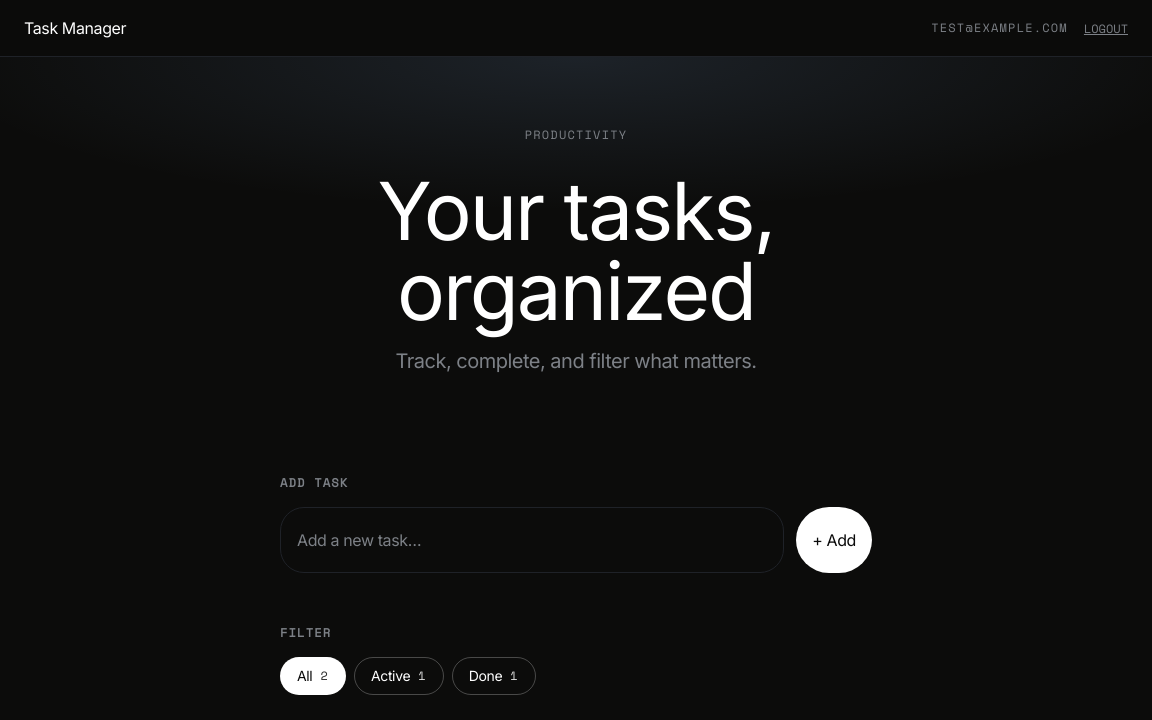
Test case: App Integration › filters tasks correctly
The width and height of the screenshot is (1152, 720).
# Filter to active only - click the button, not the text
What coordinates should you click on to do the following:
click the button "Active 1"
I would click on:
 (399, 676)
Its box is top-left (354, 657), bottom-right (444, 695).
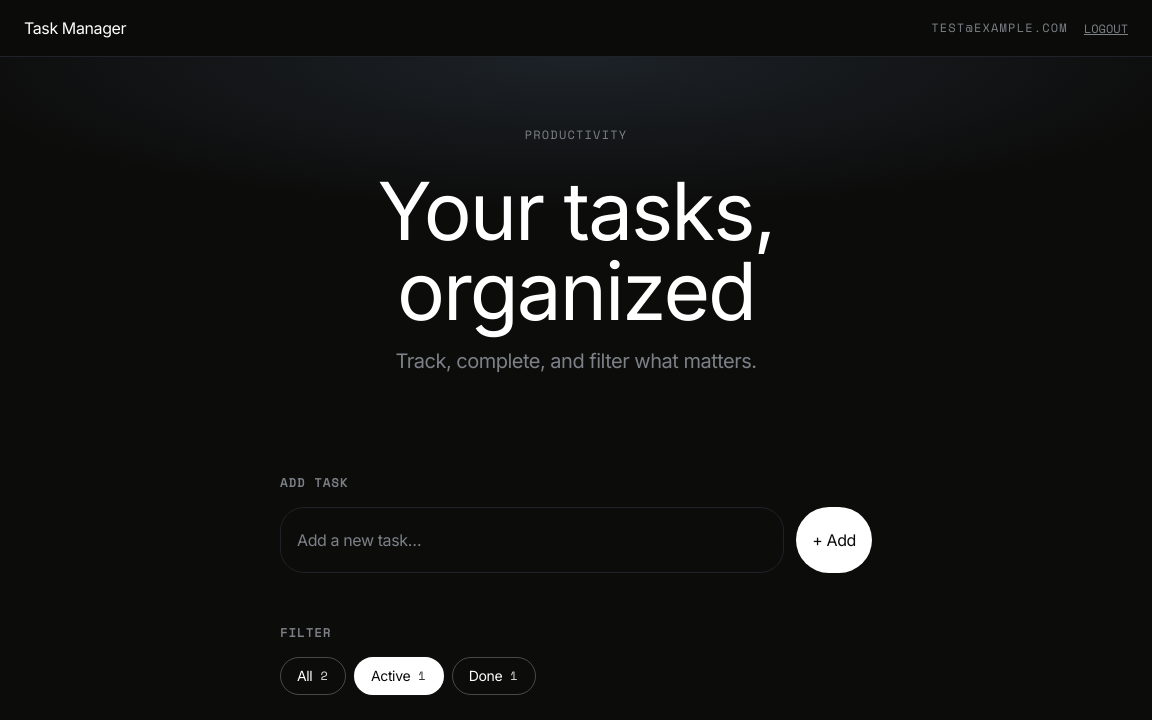
# Filter to completed only
What coordinates should you click on to do the following:
click the button "Done 1"
I would click on:
 (494, 676)
Its box is top-left (452, 657), bottom-right (536, 695).
(page scrolled)
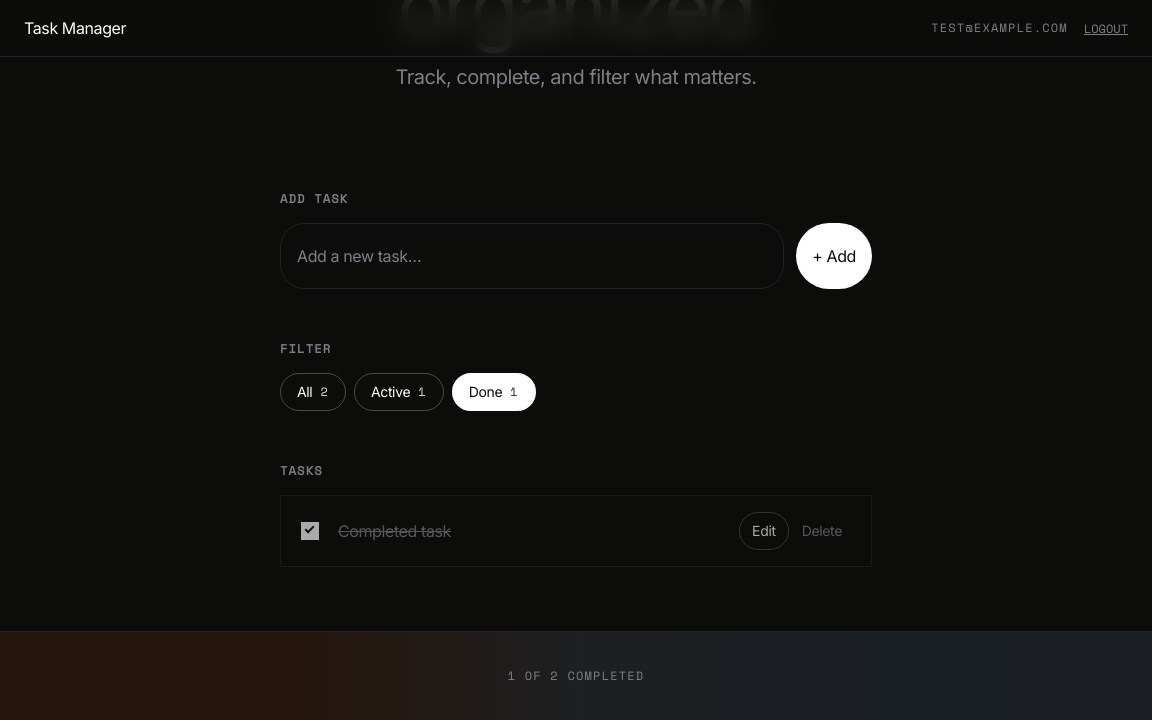
Now the text "Completed task" is shown, box top-left (338, 521), bottom-right (451, 541)
